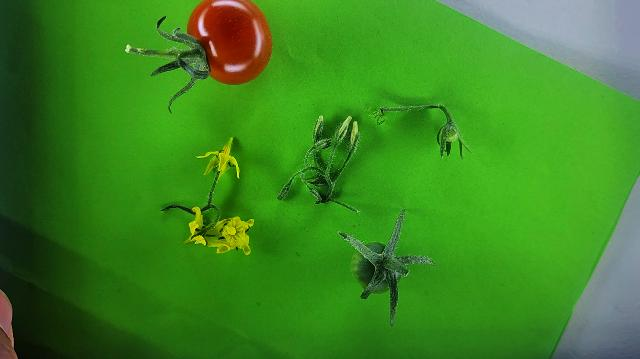Anthesis: (197, 136, 240, 181), (209, 216, 255, 256)
Flower Bud: (339, 115, 352, 135), (314, 114, 323, 137), (350, 120, 358, 142)
Fruit Bud: (444, 127, 459, 143)
Fruit Maturation: (351, 241, 398, 294)
Fully Grown: (188, 0, 275, 85)
